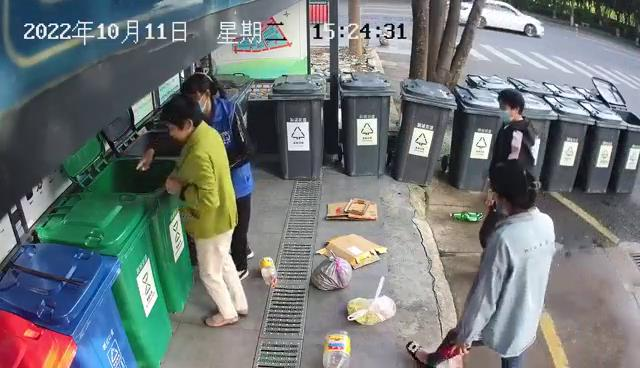garbage-bag: (345, 275, 398, 327), (309, 248, 353, 292)
person: (159, 93, 250, 328), (477, 87, 543, 249)
suliaozhipin: (321, 327, 352, 368), (257, 255, 279, 289)
worker: (405, 158, 558, 368), (178, 65, 256, 282)
zhizhipin: (314, 232, 389, 270), (324, 196, 379, 223)
